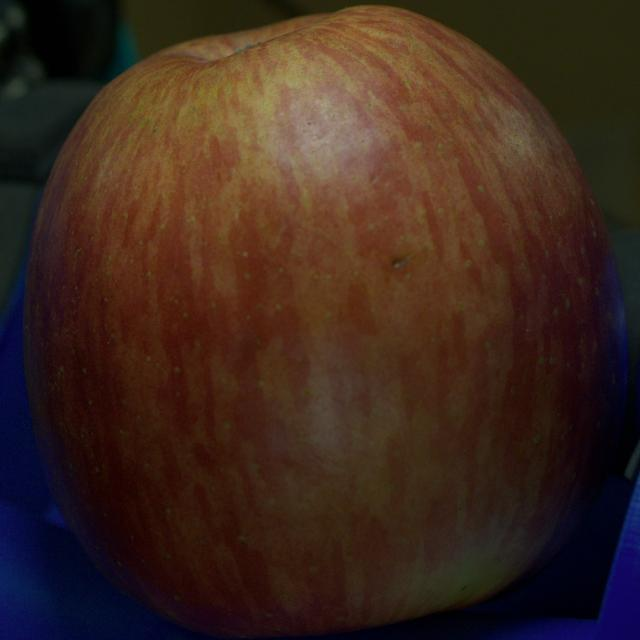apple: (23, 6, 626, 637)
pest: (392, 256, 410, 268)
